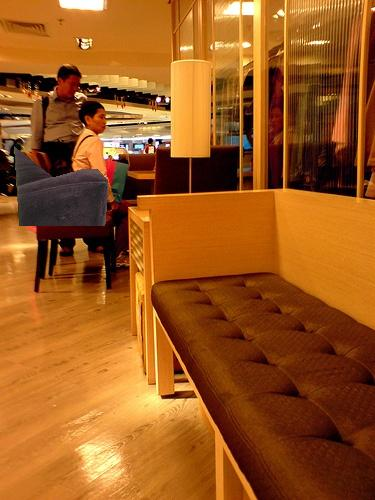tampered: (15, 147, 108, 226)
